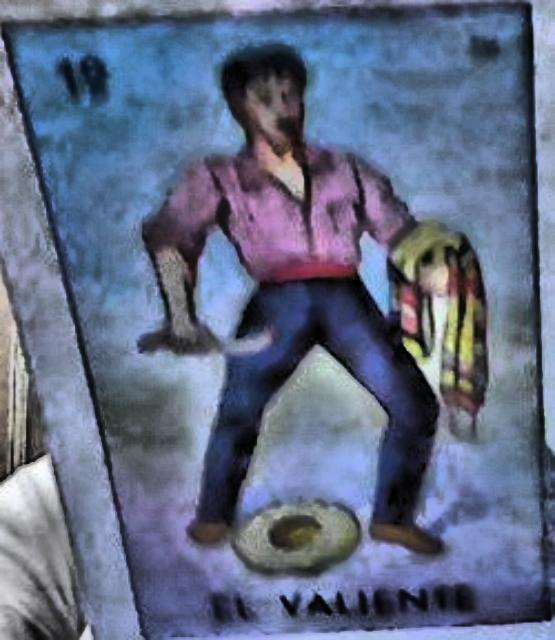El Valiente: (5, 6, 552, 636)
